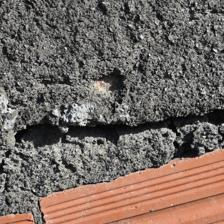Crack: (8, 54, 216, 98)
